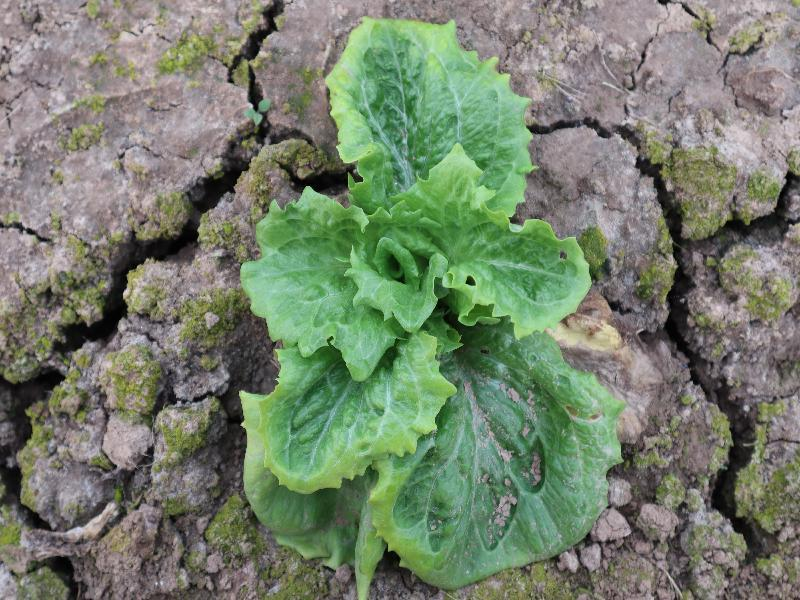lettuce: (237, 18, 627, 587)
